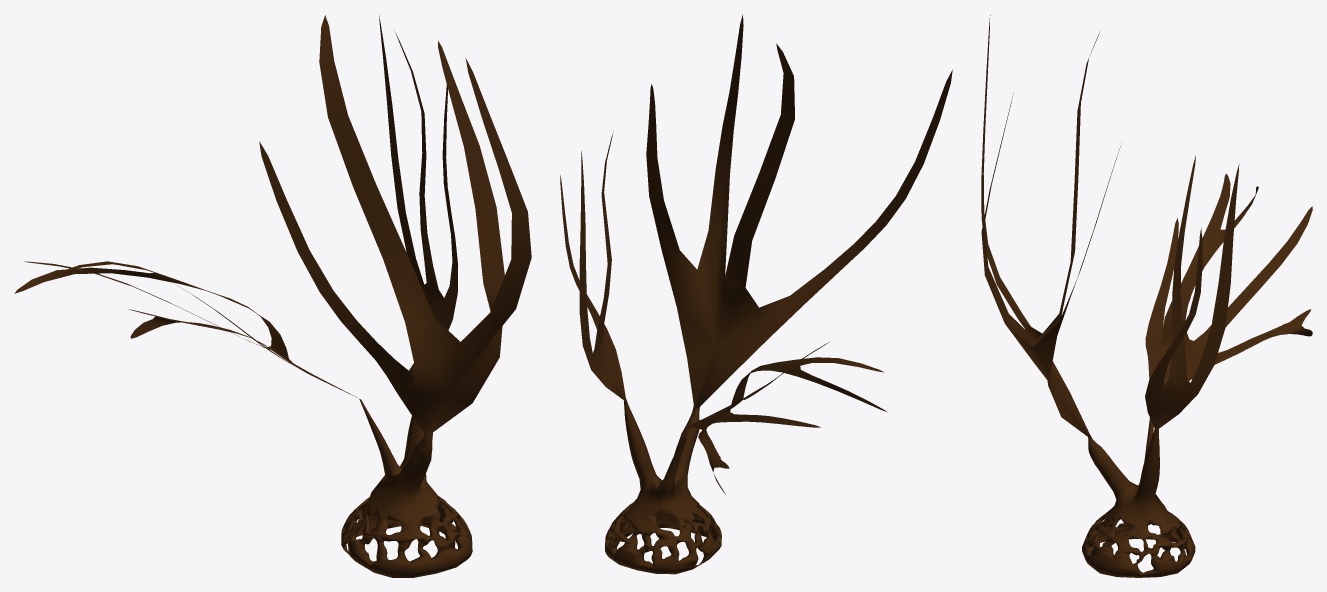
The model's file is cochayuyo.glb.
3 renders of one model, left to right at view 1: azimuth 30°, elevation 25°; view 2: azimuth 150°, elevation 25°; view 3: azimuth 270°, elevation 25°, orthographic. The views are drawn at different scales.
Visible parts, largest first — view 1: Cube; view 2: Cube; view 3: Cube.
Boxes of the visible parts, <box> form: Cube: <box>14,15,531,577</box>; Cube: <box>560,14,952,574</box>; Cube: <box>981,14,1312,577</box>.
Bounding box in the file's own units: 8.28 × 11.42 × 7.06.
